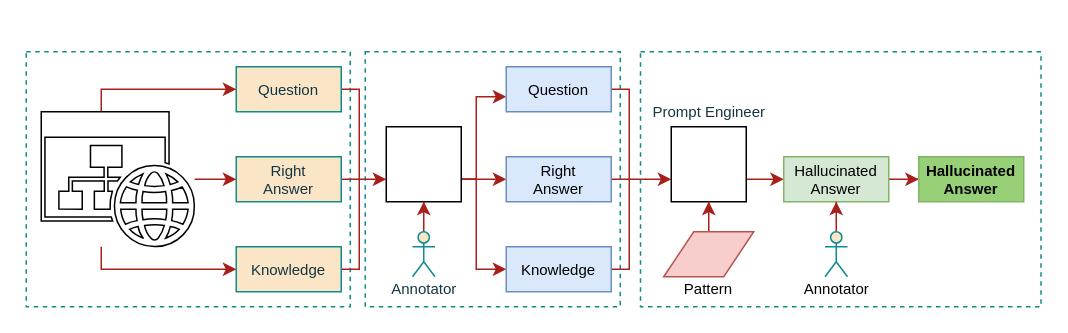
This 1068x333 diagram has some shape labels left out. The shapes that lost their labels are listed below. From the top down, each one's box as (x1, y1, x2, y2) in pixels, then its label:
(40, 110, 195, 247): Vietnamese National PS Portal
(25, 50, 350, 307): Data Collection
(385, 125, 461, 202): Pre-process
(364, 50, 620, 307): Data Preprocessing
(670, 125, 746, 202): LLM
(639, 50, 1041, 307): Hallucinated Data Generation
